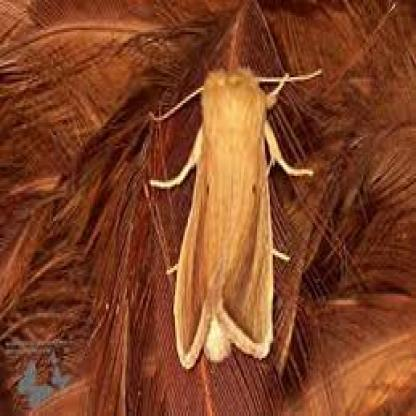stem-borer: (170, 60, 278, 372)
